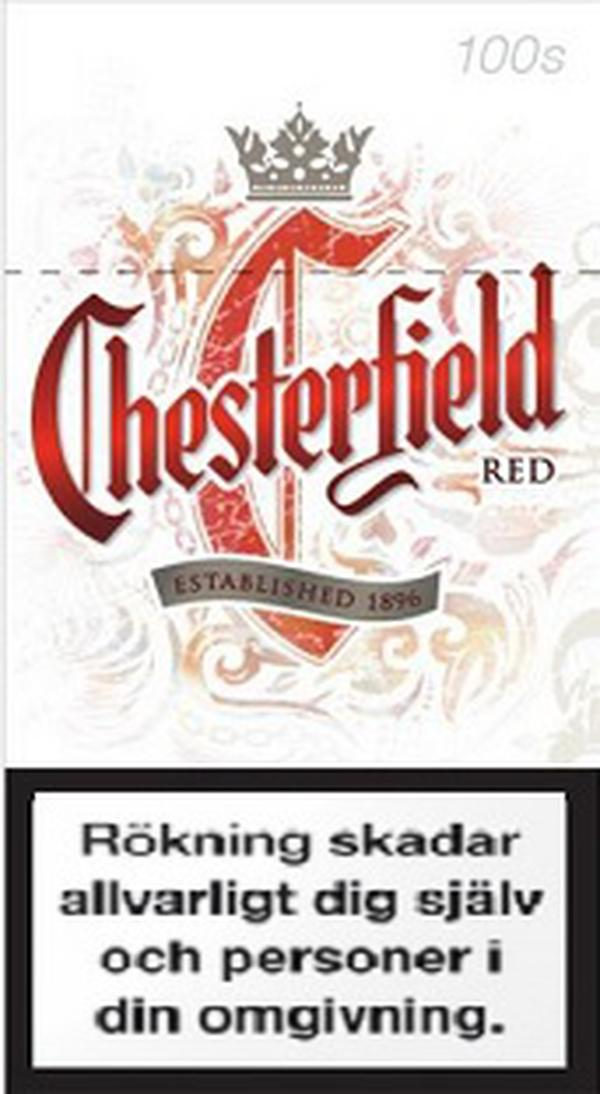chesterfield_red: (10, 3, 599, 1094)
